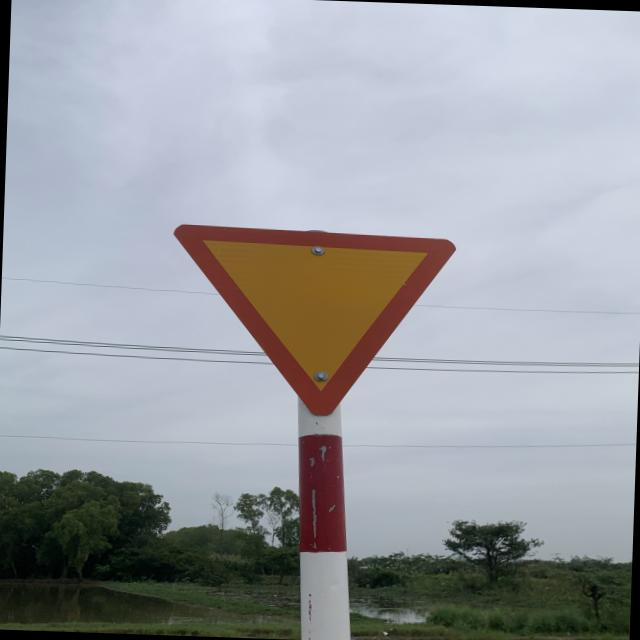Gioi_Han_Toc_Do_25: (167, 223, 457, 417)
